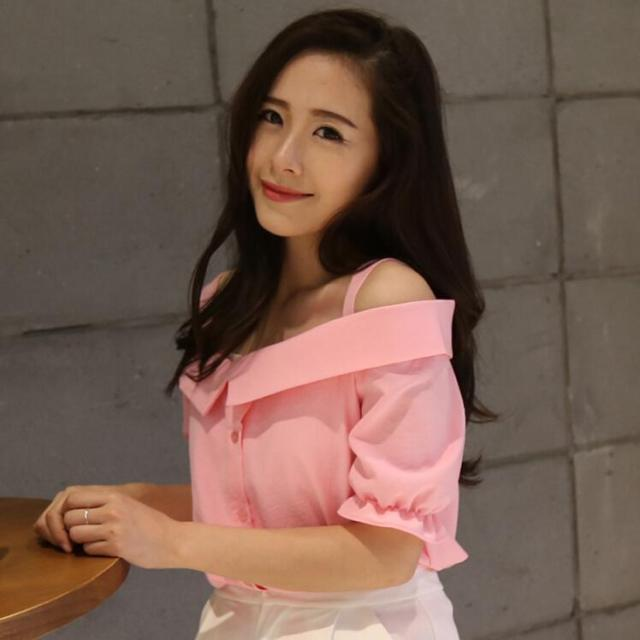short sleeve top: (178, 263, 467, 589)
